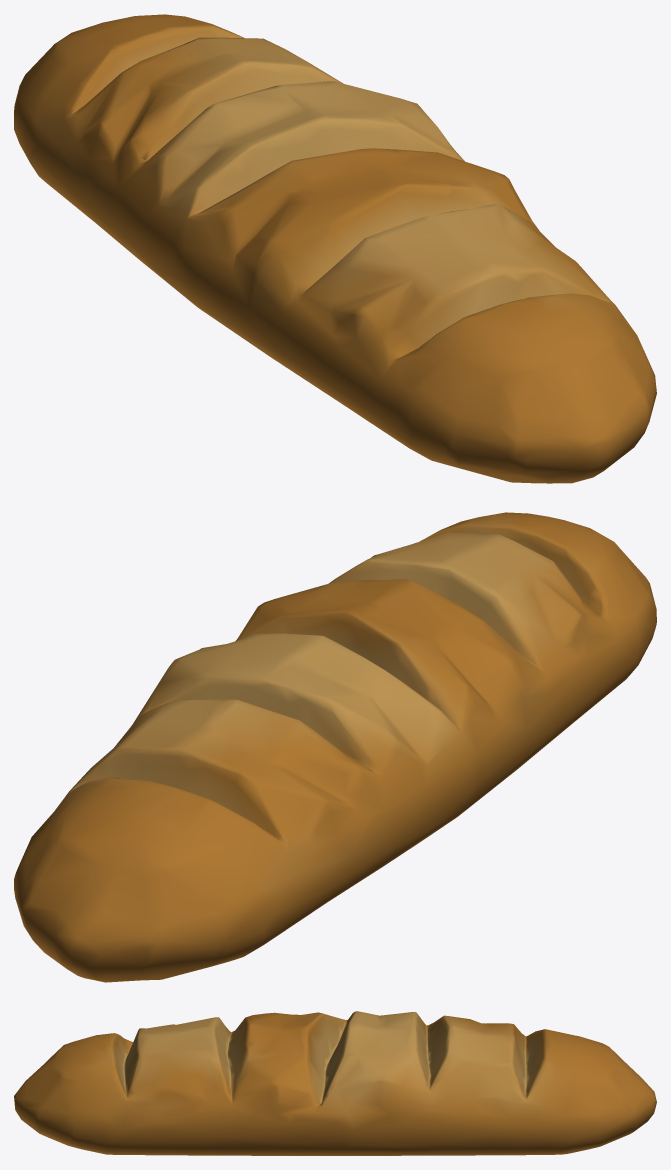
The model's file is gen3d-baguette-lod0.glb.
The picture shows the model from 3 angles, top to bottom: view 1: azimuth 30°, elevation 25°; view 2: azimuth 150°, elevation 25°; view 3: azimuth 270°, elevation 25°; orthographic projection. The views are drawn at different scales.
Parts seen in each view (by area): view 1: part_0; view 2: part_0; view 3: part_0.
Boxes of the visible parts, x1,y1,x2,y2 form: part_0: (14,14,656,483); part_0: (14,512,656,982); part_0: (14,1011,656,1155).
Size of the model in its own units: 1.53 by 0.9995 by 4.74.
